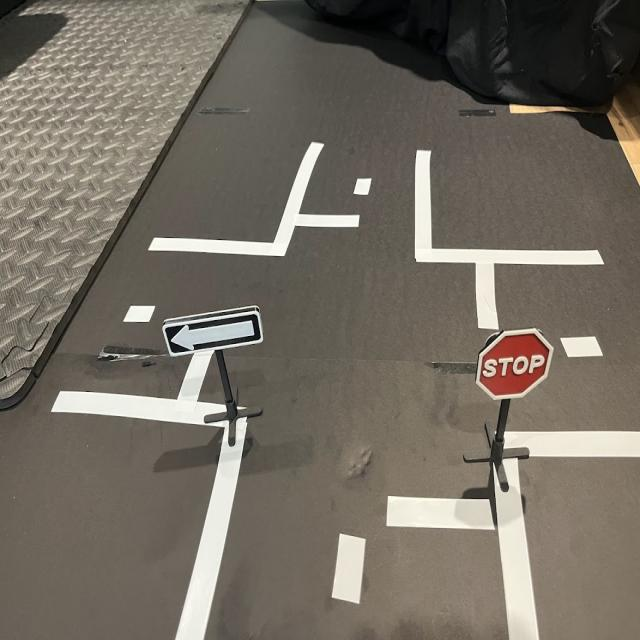sign_oneway_left: (159, 303, 270, 362)
